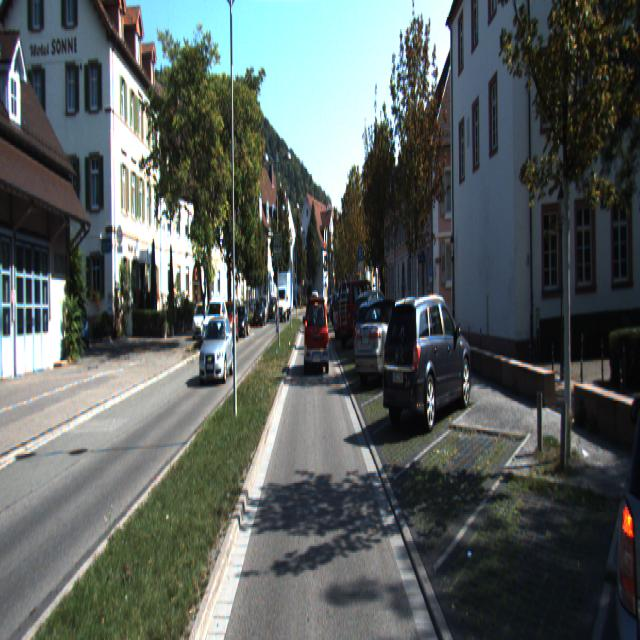Car: (381, 290, 474, 432), (612, 336, 640, 638), (353, 299, 417, 387), (351, 289, 397, 361), (336, 280, 379, 348), (199, 316, 234, 385), (305, 298, 330, 376), (333, 296, 367, 341), (203, 300, 229, 352), (219, 300, 240, 342), (70, 305, 90, 347), (276, 274, 292, 322), (192, 303, 208, 340), (252, 302, 266, 328)
